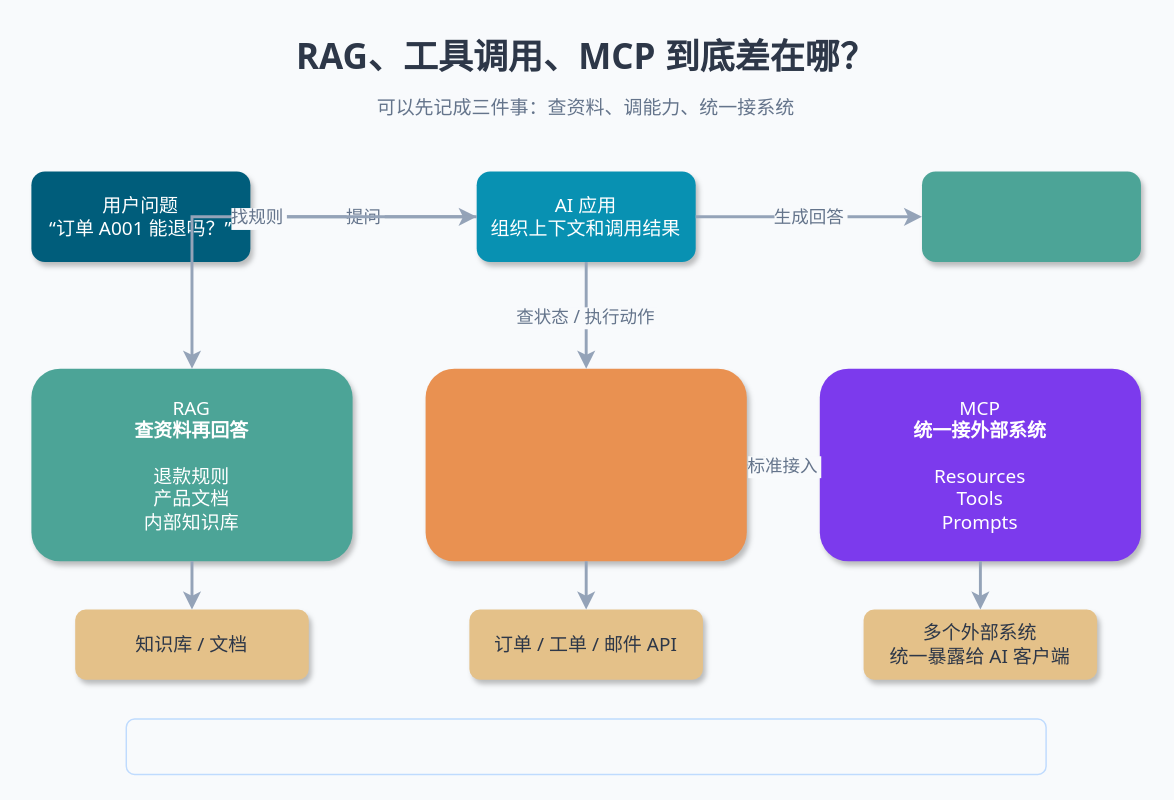
Image size: 1174x800. Some labels were removed from this diagram. The centre of each missing label's shape, as x and y in pixels:
回答用户 规则 + 订单状态: [1032,218]
工具调用 调用函数 / API get_order create_refund send_email: [587,466]
记住：RAG 让模型有资料可看，工具调用让模型有事情可做，MCP 让资料和工具更容易统一接入。: [585,746]
